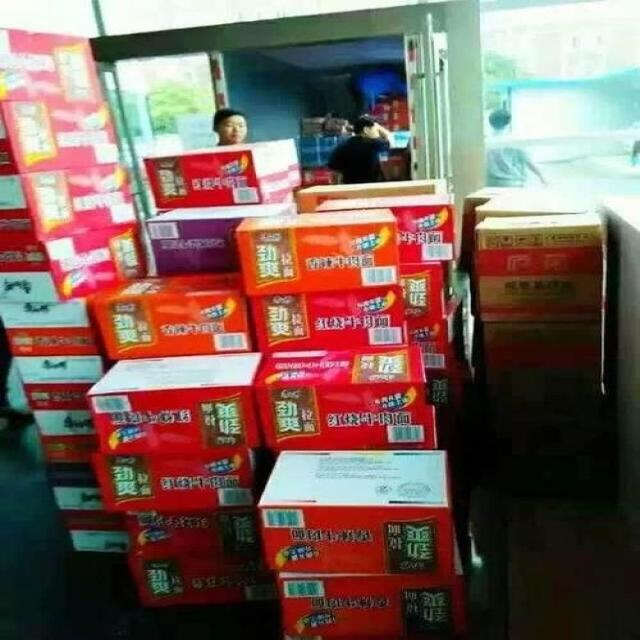box: (257, 450, 453, 575), (253, 344, 433, 462), (279, 530, 470, 640), (86, 351, 265, 454), (234, 208, 399, 297), (90, 271, 252, 360), (475, 212, 602, 321), (0, 282, 129, 382), (458, 185, 602, 270), (0, 161, 137, 247), (0, 223, 148, 302), (145, 137, 302, 208), (145, 203, 297, 274), (95, 449, 260, 513), (248, 286, 407, 351), (314, 194, 456, 262), (484, 320, 602, 399), (1, 102, 120, 175), (129, 554, 278, 608), (0, 29, 104, 102), (20, 378, 99, 463), (122, 510, 262, 557), (297, 179, 447, 214), (407, 296, 465, 371), (46, 463, 119, 521), (476, 198, 599, 225), (401, 261, 456, 320), (67, 518, 132, 554), (428, 356, 471, 409)
